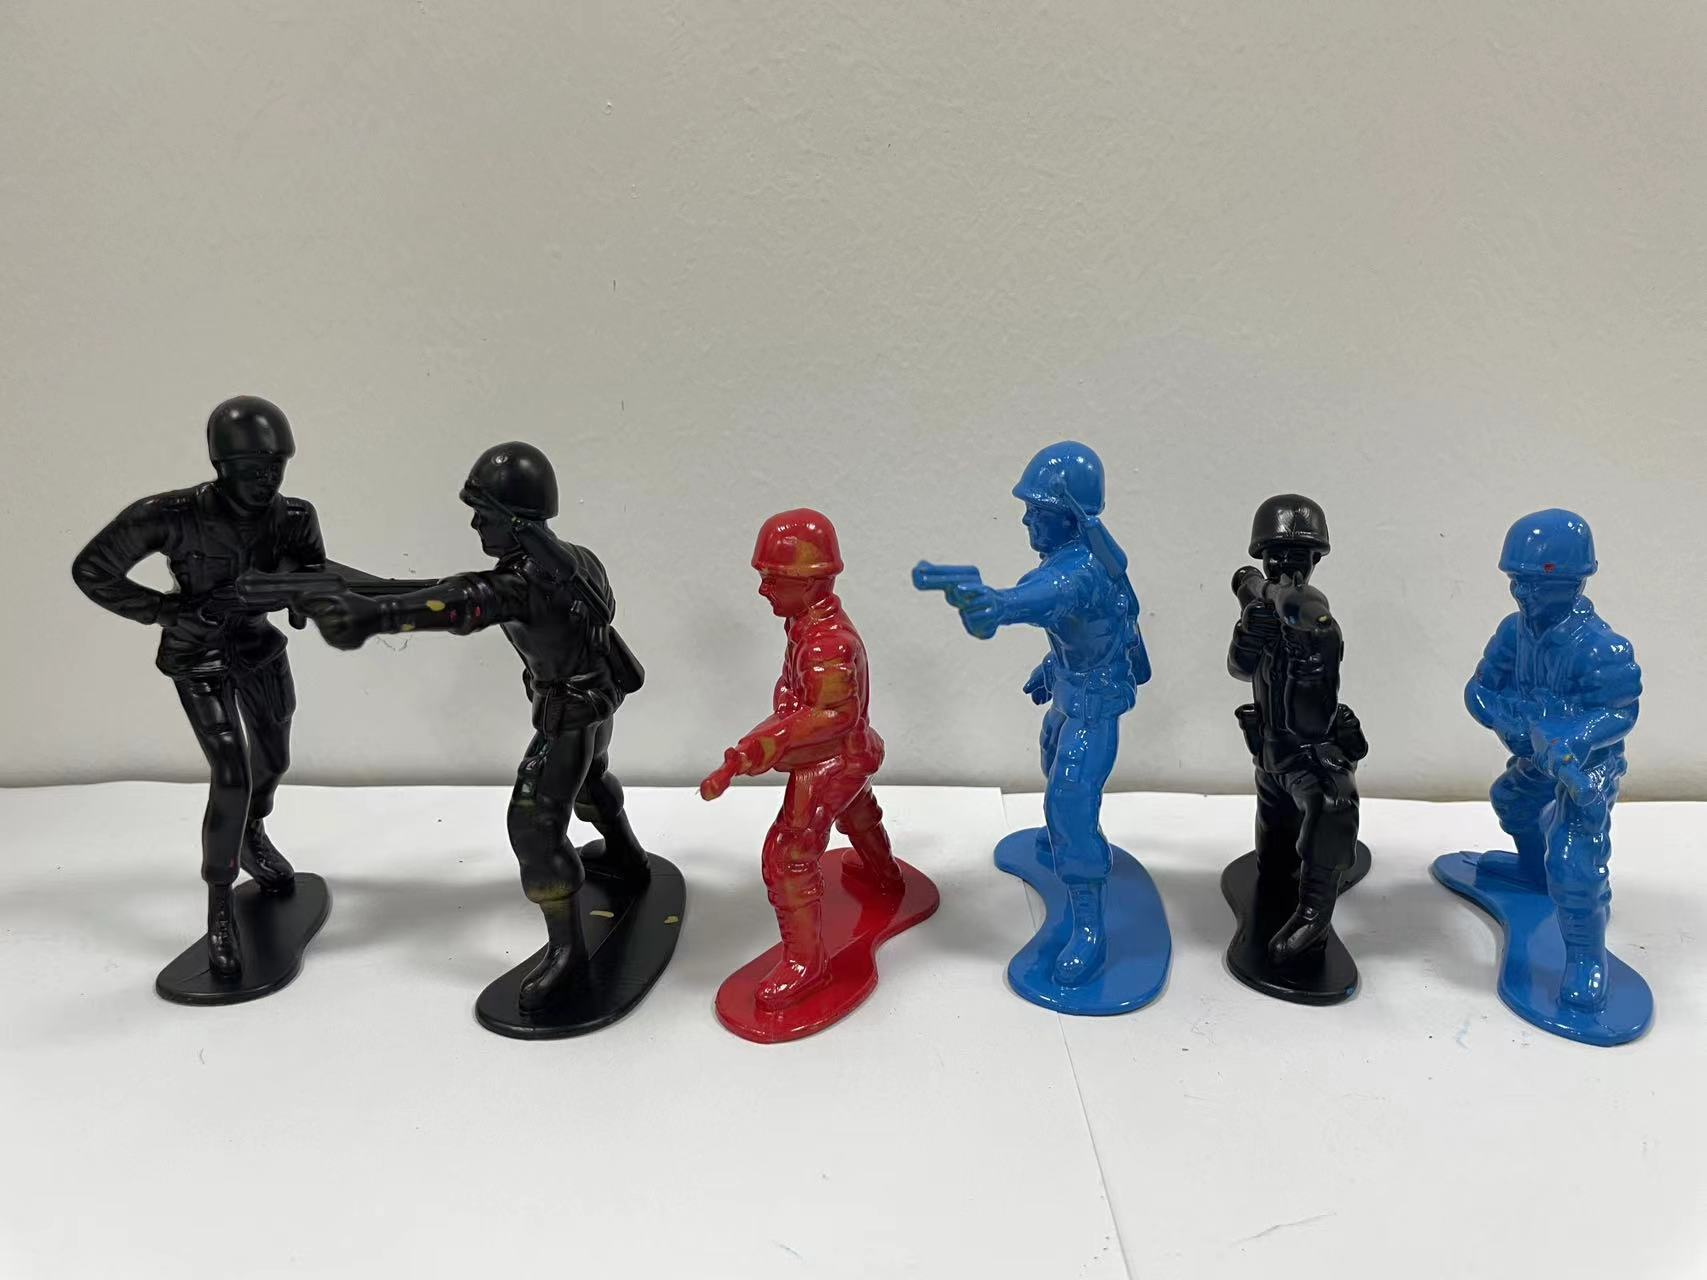black: (67, 370, 384, 1041), (374, 433, 700, 1055), (1203, 487, 1398, 1041)
blue: (931, 424, 1191, 1047), (1409, 479, 1676, 1064)
red: (706, 487, 949, 1059)
